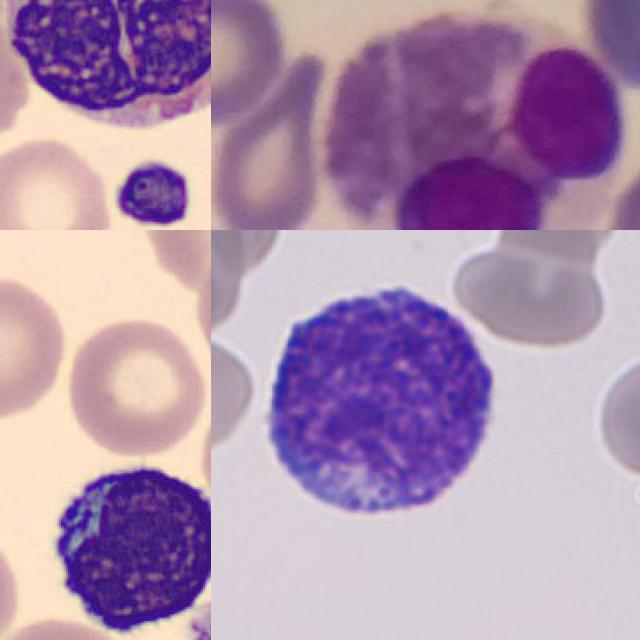Eosinophil: (328, 4, 622, 230), (0, 0, 211, 143)
Lymphocyte: (253, 271, 511, 532), (32, 450, 211, 640)
Platelets: (106, 153, 196, 230)
RBC: (63, 313, 209, 459), (448, 230, 610, 354), (0, 130, 115, 230), (0, 272, 71, 423), (590, 340, 640, 487), (211, 333, 259, 455), (490, 230, 629, 267), (0, 0, 35, 136)
